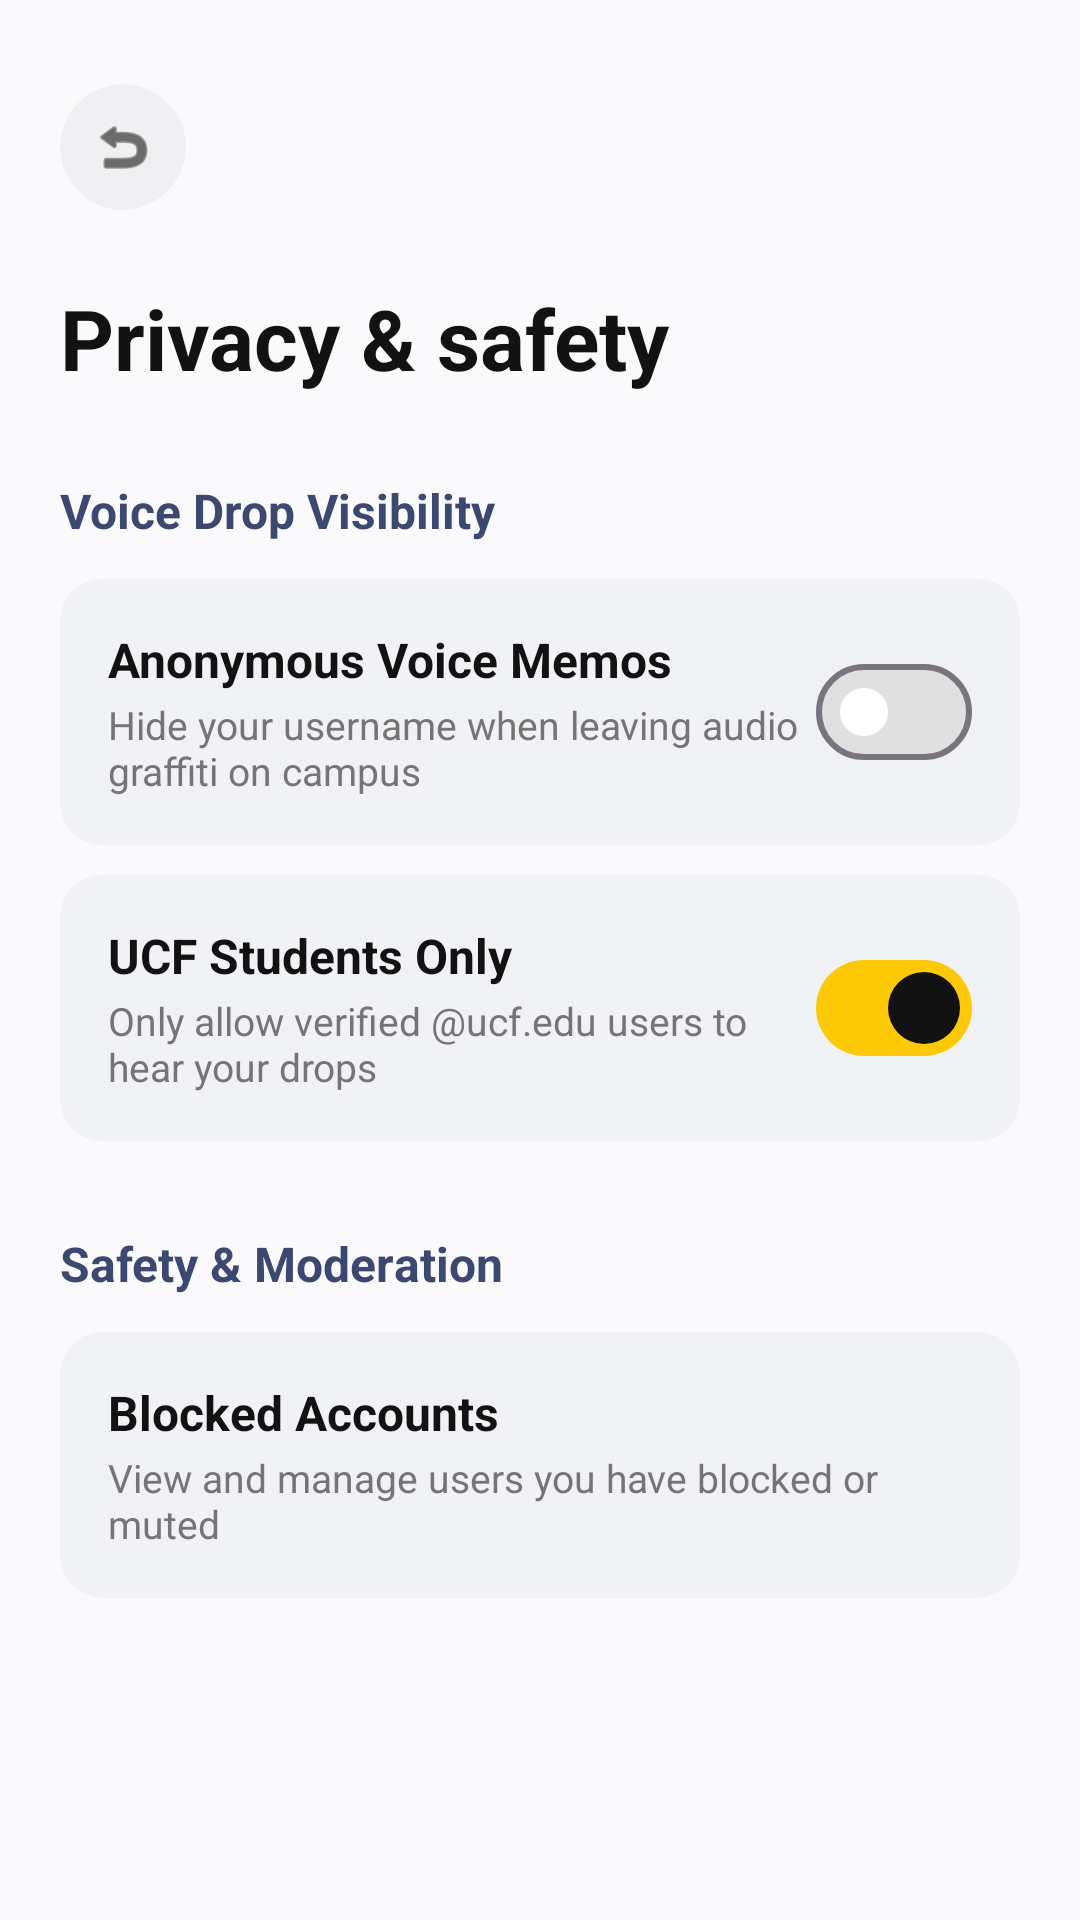

Locate icon controls on the screen. Image size 1080px x 1920px, boxes as (x1, y1, x2, y2).
Back: (100, 126, 148, 169)
